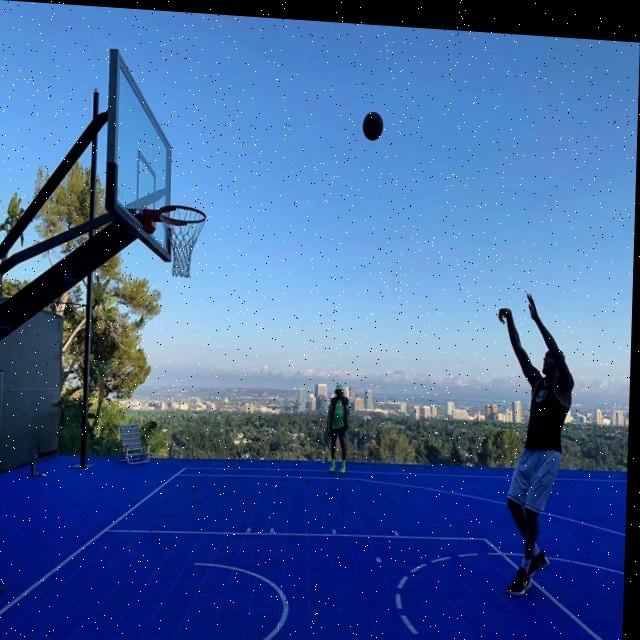basketball: (361, 108, 386, 146)
hoop: (155, 203, 208, 280)
